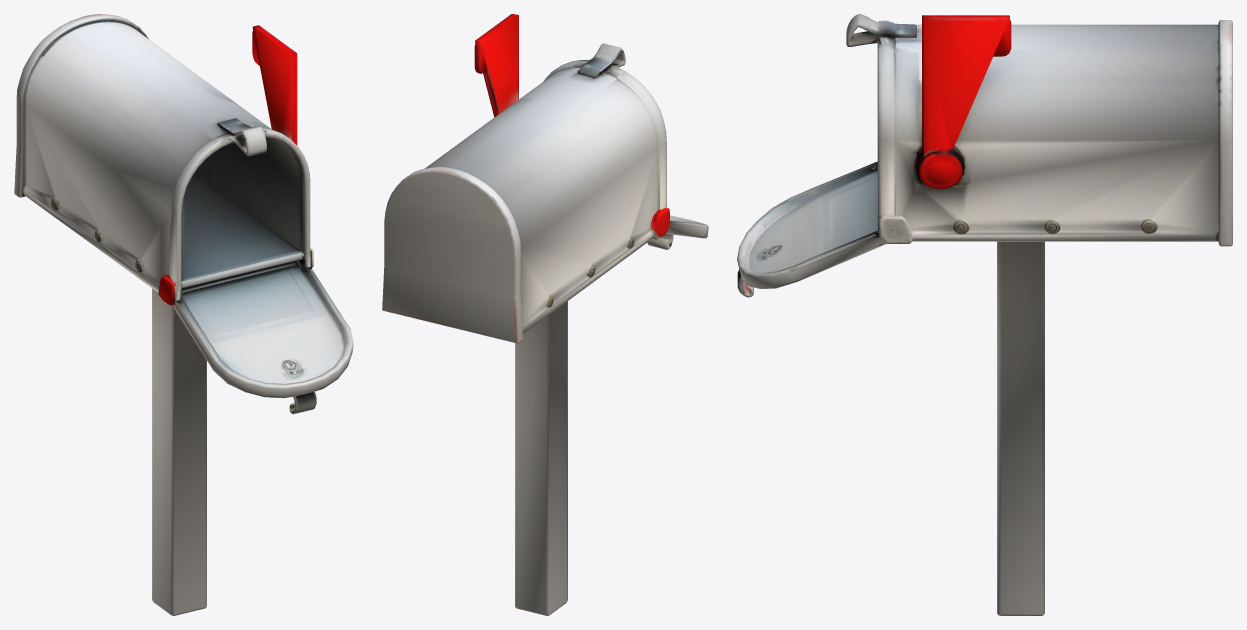
File: Outdoor__mailbox_everyday_realistic_style_811c0cec_v2.cluster.glb
3 views of the same model, side by side, from view 1: azimuth 30°, elevation 25°; view 2: azimuth 150°, elevation 25°; view 3: azimuth 270°, elevation 25° (orthographic). The views are drawn at different scales.
Parts seen in each view (by area): view 1: mesh_input; view 2: mesh_input; view 3: mesh_input.
Boxes of the visible parts, x1,y1,x2,y2 form: mesh_input: (14,14,353,615); mesh_input: (382,14,708,615); mesh_input: (737,14,1232,615).
Bounding box in the file's own units: 0.5405 × 1.9 × 1.36.
1 material, 1 textured.
